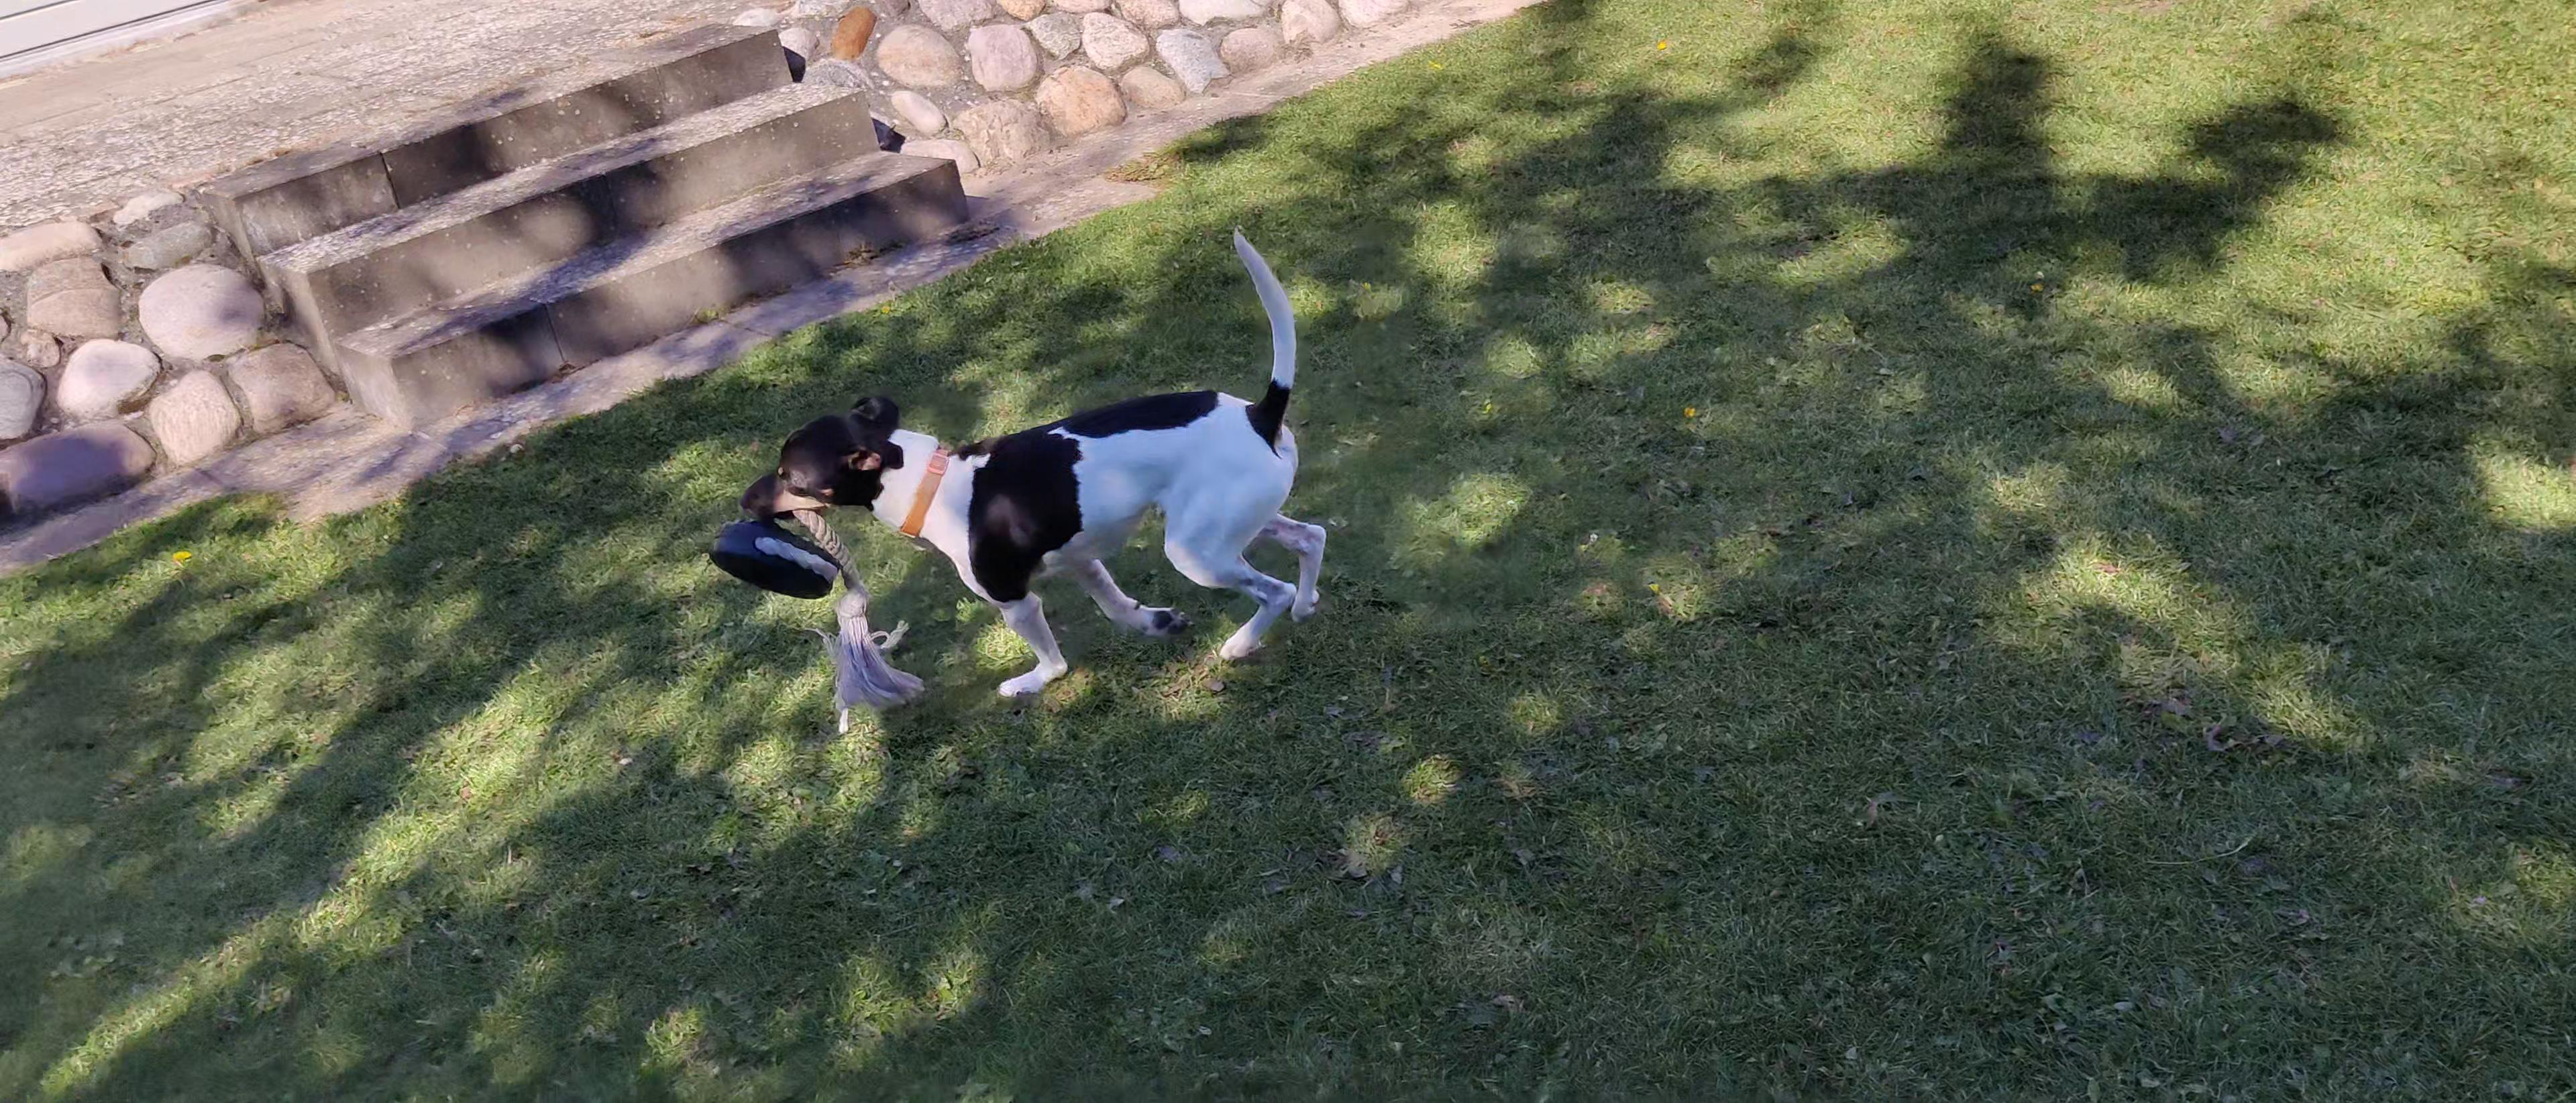Dog: (736, 217, 1339, 707)
